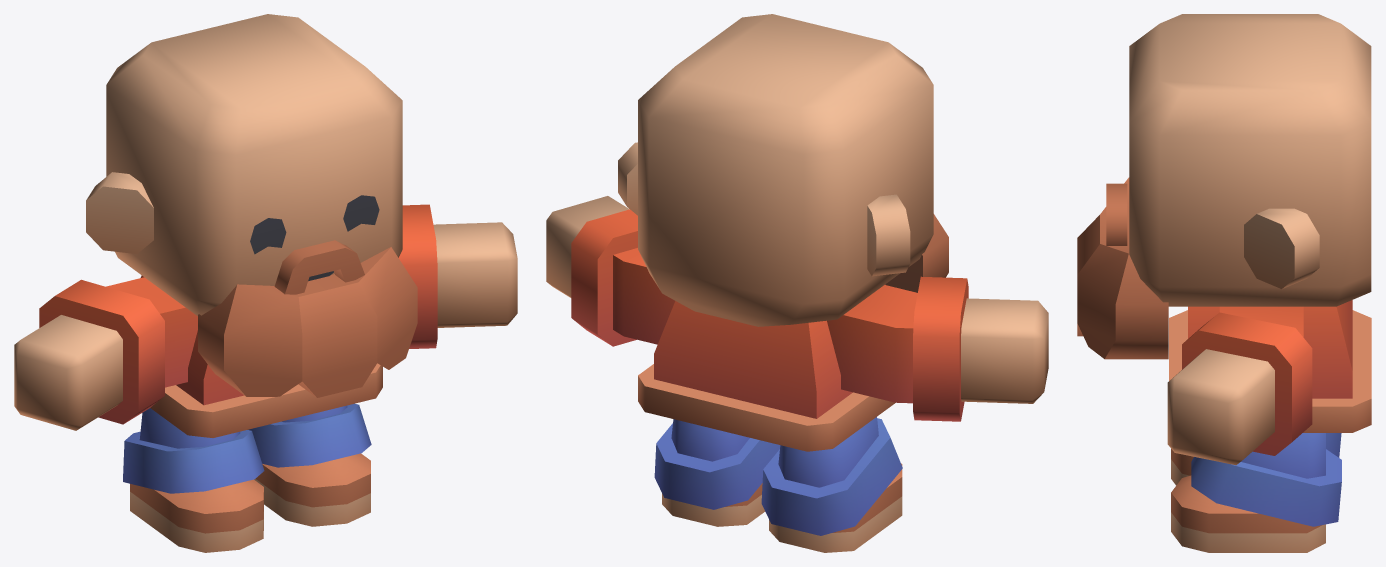
The model's file is character-male-b.obj.
3 views of the same model, side by side, from view 1: azimuth 30°, elevation 25°; view 2: azimuth 150°, elevation 25°; view 3: azimuth 270°, elevation 25° (orthographic).
Visible parts, largest first — view 1: head-mesh, body-mesh; view 2: body-mesh, head-mesh; view 3: head-mesh, body-mesh.
Part boxes in pixels (x1,y1,x2,y2): head-mesh: (86, 14, 417, 397); body-mesh: (14, 204, 517, 552); body-mesh: (546, 196, 1048, 552); head-mesh: (618, 14, 948, 326); head-mesh: (1077, 14, 1371, 359); body-mesh: (1167, 300, 1371, 552).
Bounding box in the file's own units: 0.7672 × 0.6613 × 0.3895.
Materials: 1 (1 with a texture image).
